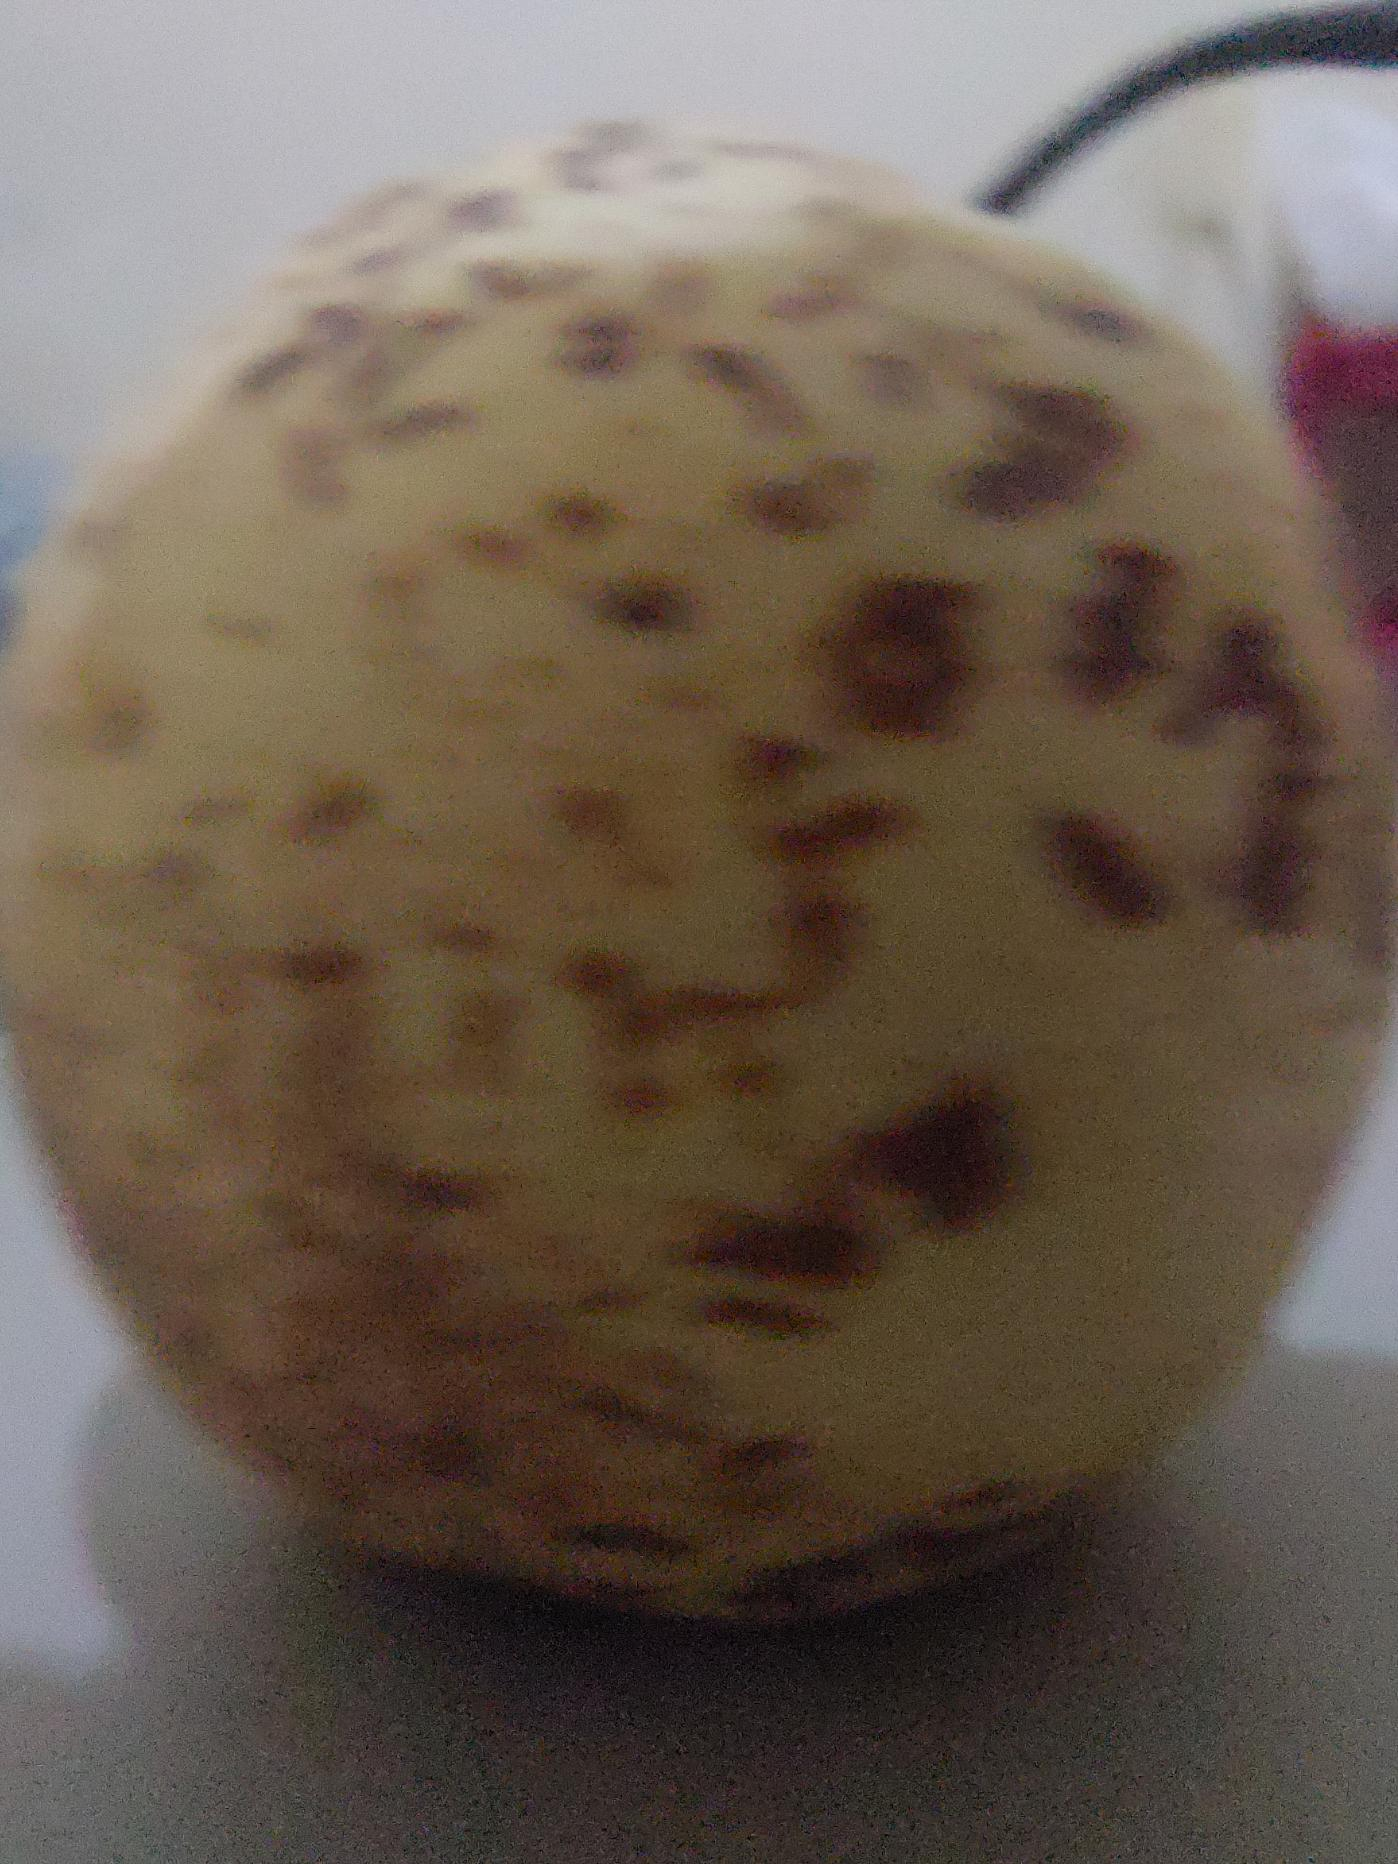Bad Pear: (0, 119, 1392, 1617)
